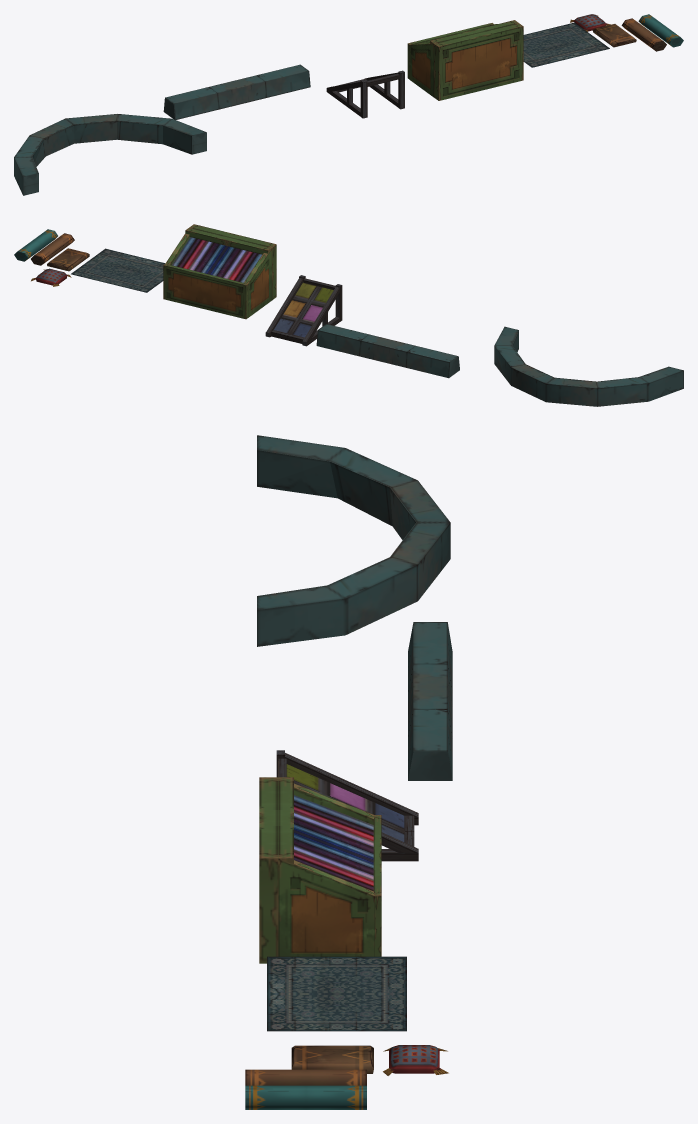
The model's file is 2_SM_ChenZhenZaWu_01.FBX.
3 views of the same model, one above another, from view 1: azimuth 30°, elevation 25°; view 2: azimuth 150°, elevation 25°; view 3: azimuth 270°, elevation 25° (orthographic). The views are drawn at different scales.
Visible parts, largest first — view 1: 2_SM_ChenZhenZaWu_06, 2_SM_ChenZhenZaWu_09, 2_SM_ChenZhenZaWu_08, 2_SM_ChenZhenZaWu_05, 2_SM_ChenZhenZaWu_07, 2_SM_ChenZhenZaWu_01, 2_SM_ChenZhenZaWu_02, 2_SM_ChenZhenZaWu_03, 2_SM_ChenZhenZaWu_04; view 2: 2_SM_ChenZhenZaWu_06, 2_SM_ChenZhenZaWu_09, 2_SM_ChenZhenZaWu_08, 2_SM_ChenZhenZaWu_07, 2_SM_ChenZhenZaWu_05, 2_SM_ChenZhenZaWu_01, 2_SM_ChenZhenZaWu_03, 2_SM_ChenZhenZaWu_02, 2_SM_ChenZhenZaWu_04; view 3: 2_SM_ChenZhenZaWu_09, 2_SM_ChenZhenZaWu_06, 2_SM_ChenZhenZaWu_05, 2_SM_ChenZhenZaWu_08, 2_SM_ChenZhenZaWu_07, 2_SM_ChenZhenZaWu_01, 2_SM_ChenZhenZaWu_03, 2_SM_ChenZhenZaWu_02, 2_SM_ChenZhenZaWu_04.
Boxes of the visible parts, left/top/right/bottom form: 2_SM_ChenZhenZaWu_06: left=407, top=20, right=523, bottom=100; 2_SM_ChenZhenZaWu_09: left=14, top=114, right=206, bottom=195; 2_SM_ChenZhenZaWu_08: left=163, top=64, right=310, bottom=119; 2_SM_ChenZhenZaWu_05: left=523, top=22, right=609, bottom=67; 2_SM_ChenZhenZaWu_07: left=326, top=70, right=404, bottom=118; 2_SM_ChenZhenZaWu_01: left=638, top=14, right=683, bottom=47; 2_SM_ChenZhenZaWu_02: left=621, top=18, right=666, bottom=51; 2_SM_ChenZhenZaWu_03: left=592, top=24, right=636, bottom=47; 2_SM_ChenZhenZaWu_04: left=570, top=14, right=610, bottom=31; 2_SM_ChenZhenZaWu_06: left=163, top=224, right=276, bottom=319; 2_SM_ChenZhenZaWu_09: left=494, top=326, right=683, bottom=406; 2_SM_ChenZhenZaWu_08: left=316, top=324, right=459, bottom=378; 2_SM_ChenZhenZaWu_07: left=265, top=275, right=342, bottom=346; 2_SM_ChenZhenZaWu_05: left=71, top=248, right=165, bottom=292; 2_SM_ChenZhenZaWu_01: left=14, top=229, right=57, bottom=261; 2_SM_ChenZhenZaWu_03: left=47, top=248, right=89, bottom=271; 2_SM_ChenZhenZaWu_02: left=31, top=233, right=74, bottom=265; 2_SM_ChenZhenZaWu_04: left=31, top=268, right=71, bottom=286; 2_SM_ChenZhenZaWu_09: left=257, top=435, right=450, bottom=646; 2_SM_ChenZhenZaWu_06: left=259, top=777, right=381, bottom=963; 2_SM_ChenZhenZaWu_05: left=267, top=956, right=406, bottom=1031; 2_SM_ChenZhenZaWu_08: left=408, top=622, right=452, bottom=780; 2_SM_ChenZhenZaWu_07: left=276, top=750, right=418, bottom=861; 2_SM_ChenZhenZaWu_01: left=245, top=1085, right=366, bottom=1109; 2_SM_ChenZhenZaWu_03: left=291, top=1045, right=373, bottom=1073; 2_SM_ChenZhenZaWu_02: left=245, top=1069, right=366, bottom=1085; 2_SM_ChenZhenZaWu_04: left=383, top=1045, right=448, bottom=1075.
Size of the model in its own units: 2427 by 202 by 339.
